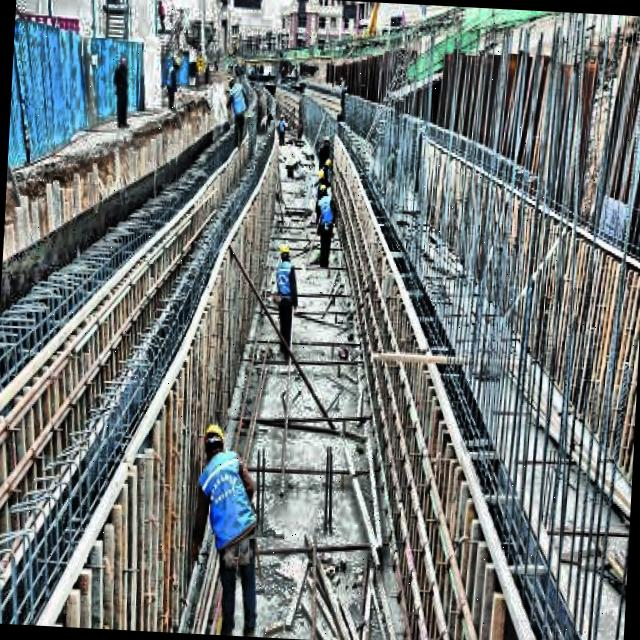helmet: (197, 419, 229, 464), (278, 240, 292, 260)
